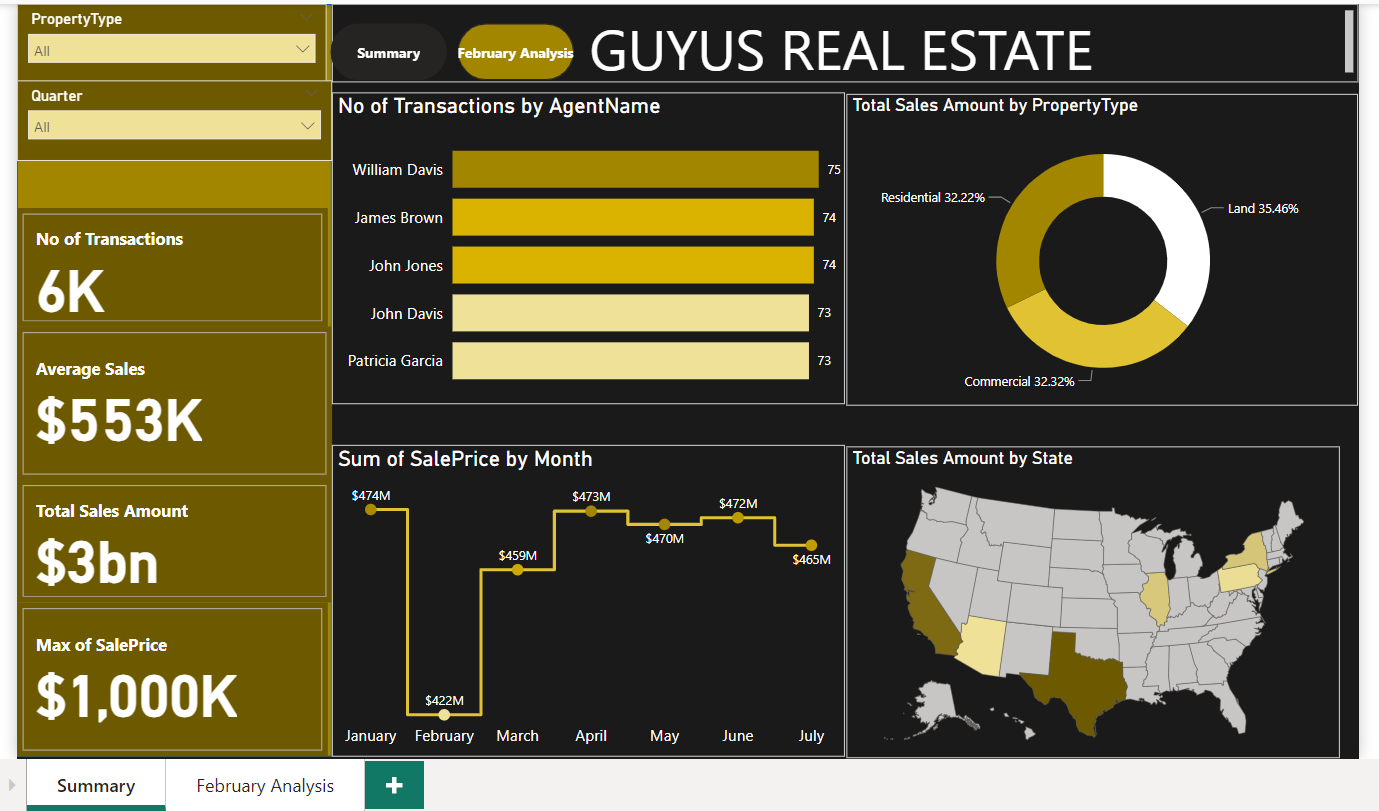

The dashboard page shown, as its layout file describes it:
{"tool":"powerbi","page":{"name":"Summary","canvas":[1280,720],"ordinal":0},"visuals":[{"type":"shape","box":[0,0,300.5,718.2],"z":0},{"type":"cardVisual","fields":{"Data":["Calculated Measures.No of Transactions"]},"box":[0,194.2,296.8,113.6],"z":1000},{"type":"cardVisual","fields":{"Data":["Calculated Measures.Average Sales"]},"box":[0,307.8,300.5,146.6],"z":2000},{"type":"cardVisual","fields":{"Data":["Calculated Measures.Total Sales Amount"]},"box":[0,454.4,300.5,117.3],"z":3000},{"type":"cardVisual","fields":{"Data":["RealEstate Data.SalePrice"]},"box":[0,571.6,296.8,146.6],"z":4000},{"type":"clusteredBarChart","fields":{"Category":["Agent Dim.AgentName"],"Y":["Calculated Measures.No of Transactions"]},"box":[300.4,84.2,489.5,297.2],"z":5000},{"type":"lineChart","fields":{"Category":["Calender Dim.Month"],"Y":["RealEstate Data.SalePrice"]},"box":[300.4,421.2,489.5,297.2],"z":6000},{"type":"donutChart","fields":{"Category":["Property Dim.PropertyType"],"Y":["Calculated Measures.Total Sales Amount"]},"box":[791.5,85.8,487.9,297.2],"z":7000},{"type":"textbox","box":[300.4,0,979.1,74.7],"z":8000},{"type":"shapeMap","fields":{"Category":["Location Dim.State"],"Value":["Calculated Measures.Total Sales Amount"]},"box":[791.5,422.8,470.5,297.2],"z":9000},{"type":"slicer","fields":{"Values":["Property Dim.PropertyType"]},"box":[0,0,295.6,74.7],"z":10000},{"type":"slicer","fields":{"Values":["Calender Dim.Quarter"]},"box":[0,73.3,300.5,76.9],"z":11000},{"type":"pageNavigator","box":[298.8,19.1,233.6,54],"z":12000}]}

Visuals, with their boxes in screenshot pixels (x1, y1, x2, y2):
shape: locate(11, 0, 330, 759)
cardVisual - Calculated Measures.No of Transactions: locate(11, 203, 326, 323)
cardVisual - Calculated Measures.Average Sales: locate(11, 323, 330, 479)
cardVisual - Calculated Measures.Total Sales Amount: locate(11, 479, 330, 604)
cardVisual - RealEstate Data.SalePrice: locate(11, 604, 326, 759)
clusteredBarChart - Agent Dim.AgentName x Calculated Measures.No of Transactions: locate(330, 86, 850, 402)
lineChart - Calender Dim.Month x RealEstate Data.SalePrice: locate(330, 444, 850, 760)
donutChart - Property Dim.PropertyType x Calculated Measures.Total Sales Amount: locate(852, 88, 1370, 403)
textbox: locate(330, 0, 1370, 76)
shapeMap - Location Dim.State x Calculated Measures.Total Sales Amount: locate(852, 446, 1352, 761)
slicer - Property Dim.PropertyType: locate(11, 0, 325, 76)
slicer - Calender Dim.Quarter: locate(11, 74, 330, 156)
pageNavigator: locate(328, 17, 576, 74)
